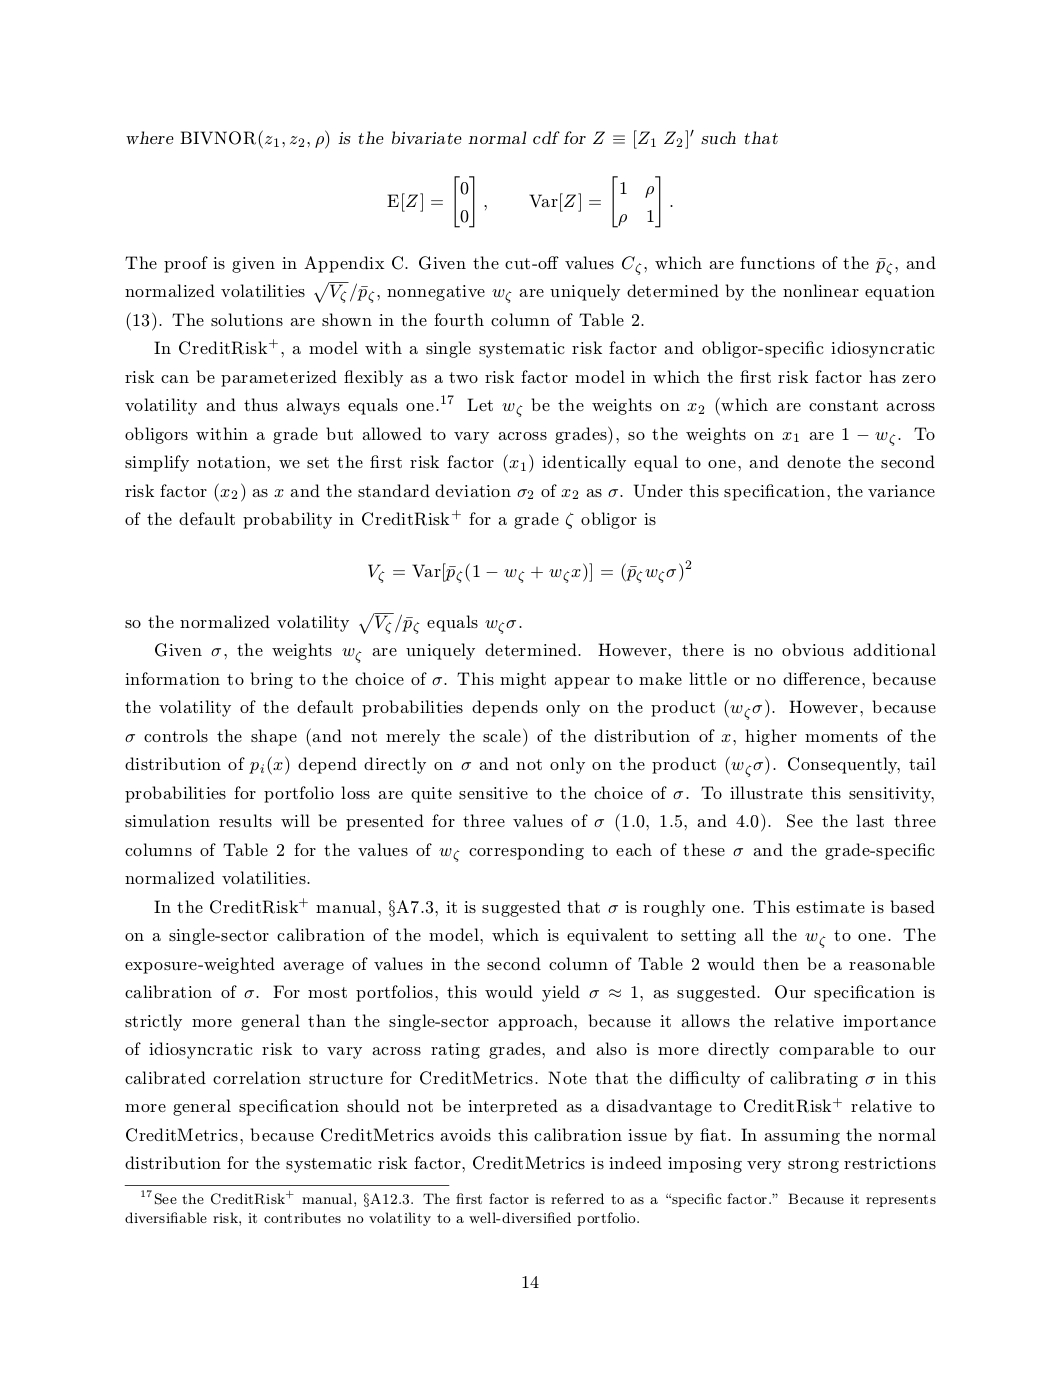formula: (387, 175, 672, 228), (368, 559, 691, 583)
